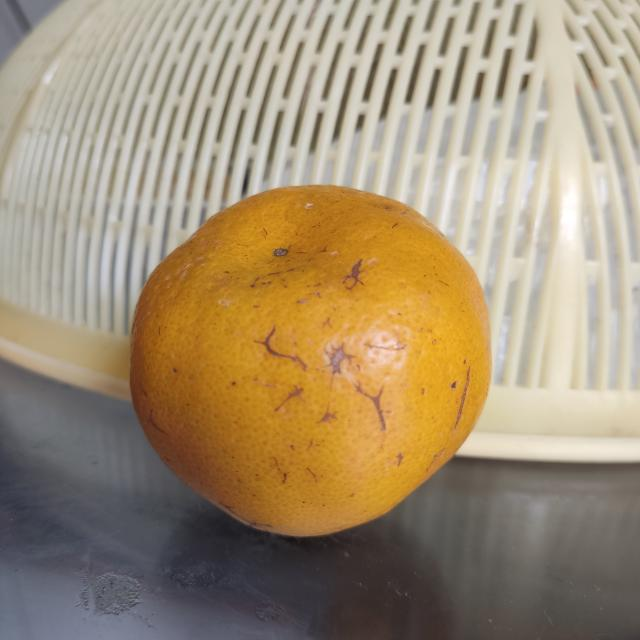orange: (120, 181, 500, 541)
